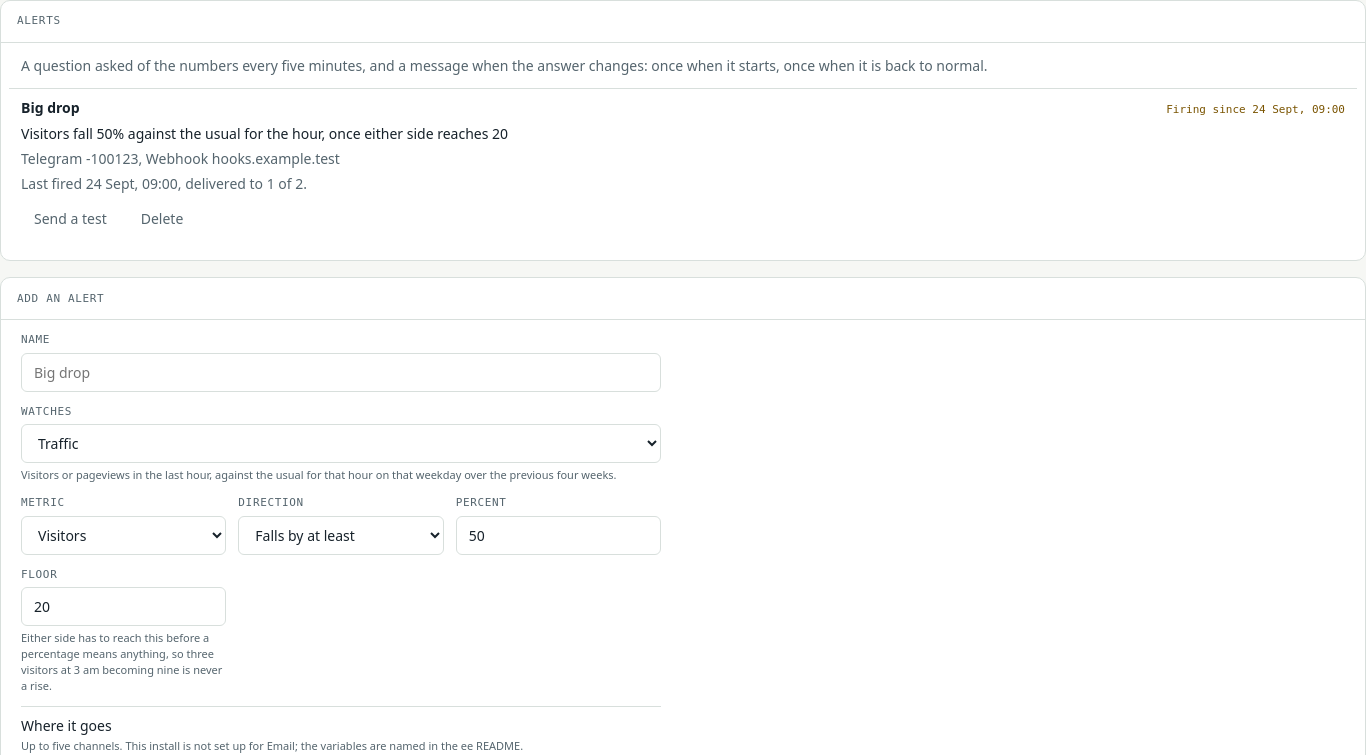
Test: Alerts, the list › sends a test and lists what each channel answered
expect the text "Big drop" is shown: met, box [21,97,80,118]
Click the button "Send a test" at (70, 219), box [21,202,120,236]
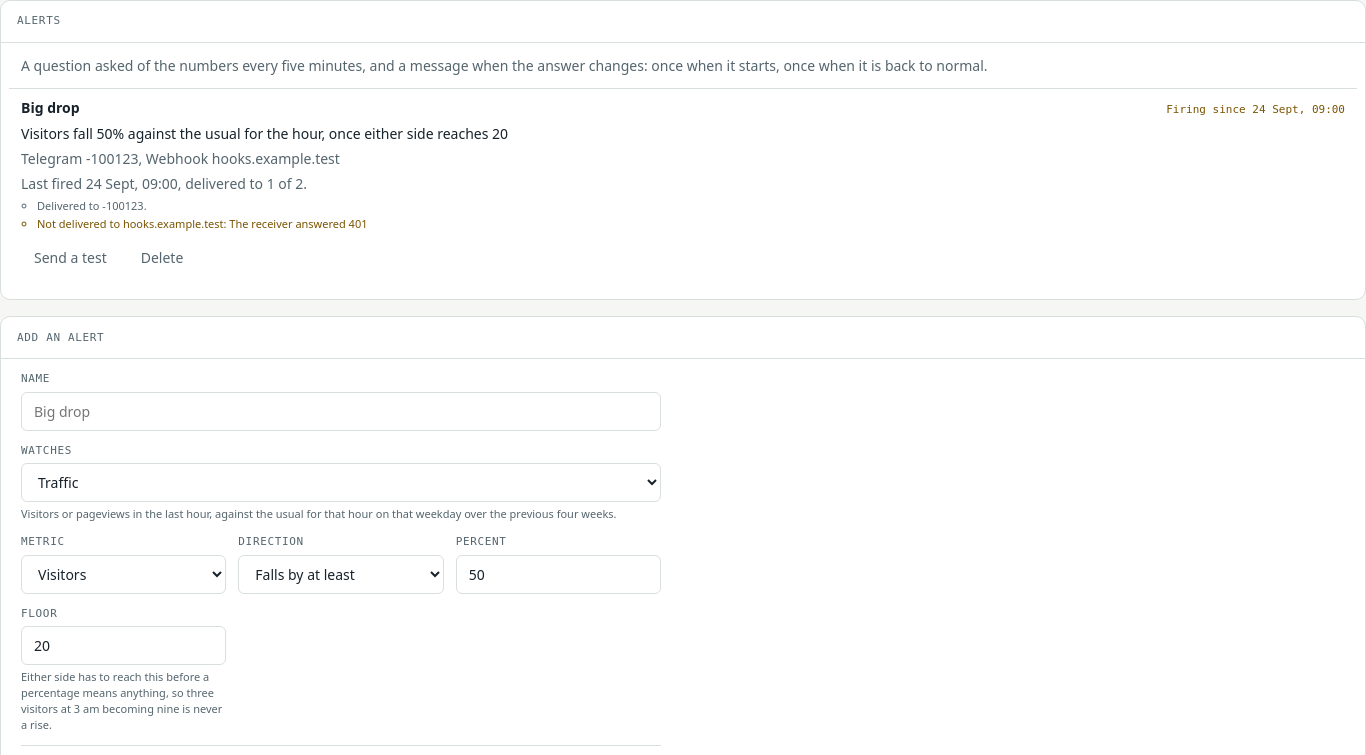
expect the list item "Delivered to -100123." is shown: met, box [37,198,147,212]
expect the list item "Not delivered to hooks.example.test: The receiver answered 401" is shown: met, box [37,216,368,231]
